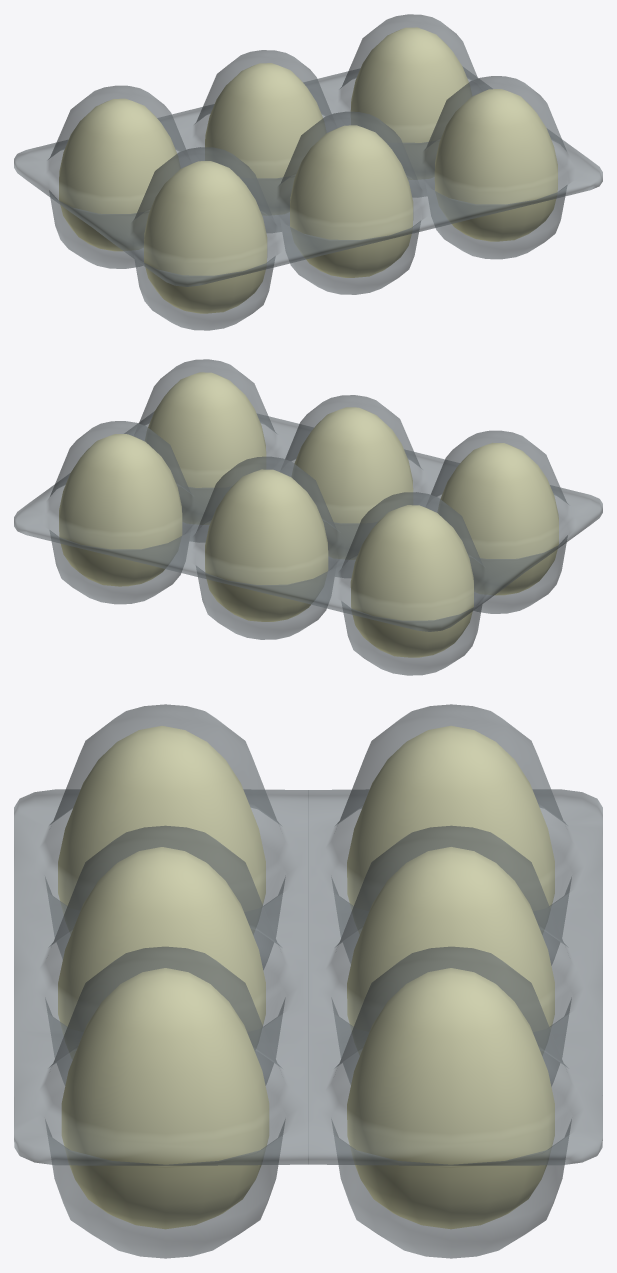
Rendered from Eggs.fbx.
The picture shows the model from 3 angles, top to bottom: view 1: azimuth 30°, elevation 25°; view 2: azimuth 150°, elevation 25°; view 3: azimuth 270°, elevation 25°; orthographic projection. The views are drawn at different scales.
Parts seen in each view (by area): view 1: Eggs; view 2: Eggs; view 3: Eggs.
Part boxes in pixels (box(x1,y1,x2,y2)): Eggs: box(14, 14, 602, 330); Eggs: box(14, 359, 602, 675); Eggs: box(14, 704, 602, 1258).
Bounding box in the file's own units: 24.47 × 8.73 × 16.92.
